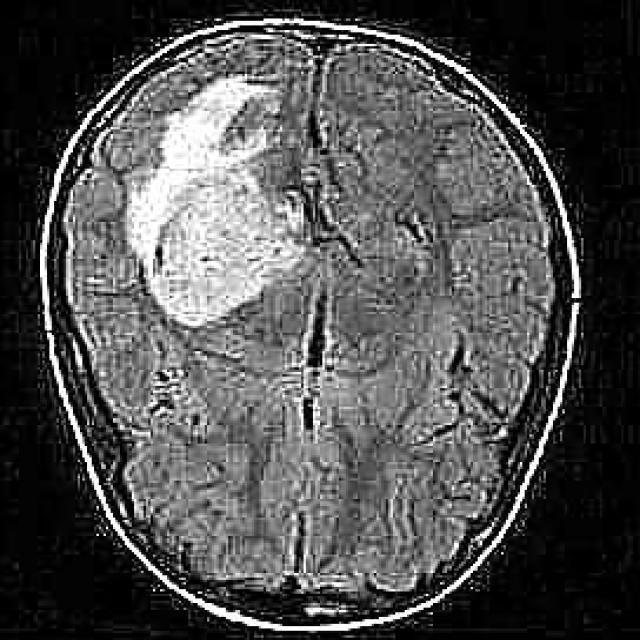tumor: (125, 81, 304, 330)
